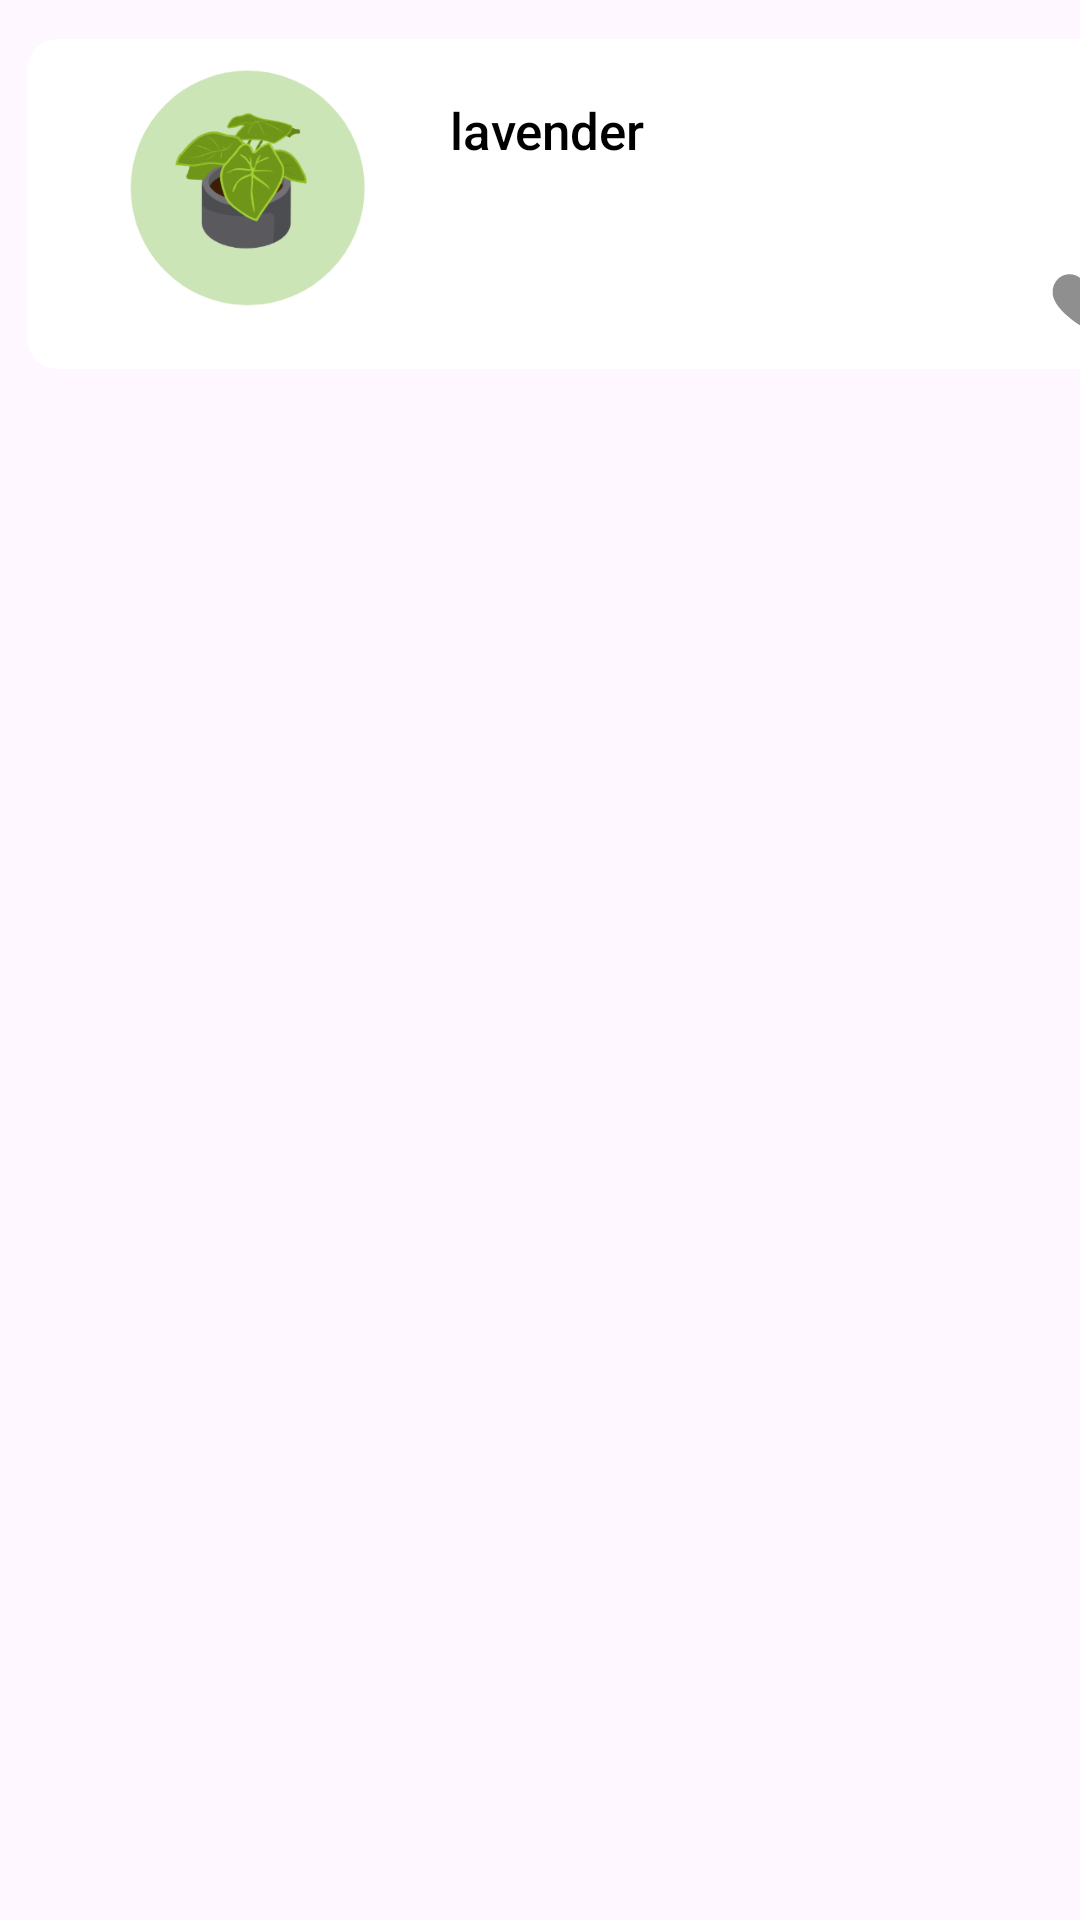

Locate icon controls on the screen. Image size 1080*1920, boxes as BBox(x1, y1, x2, y2).
plant: BBox(131, 70, 365, 305)
